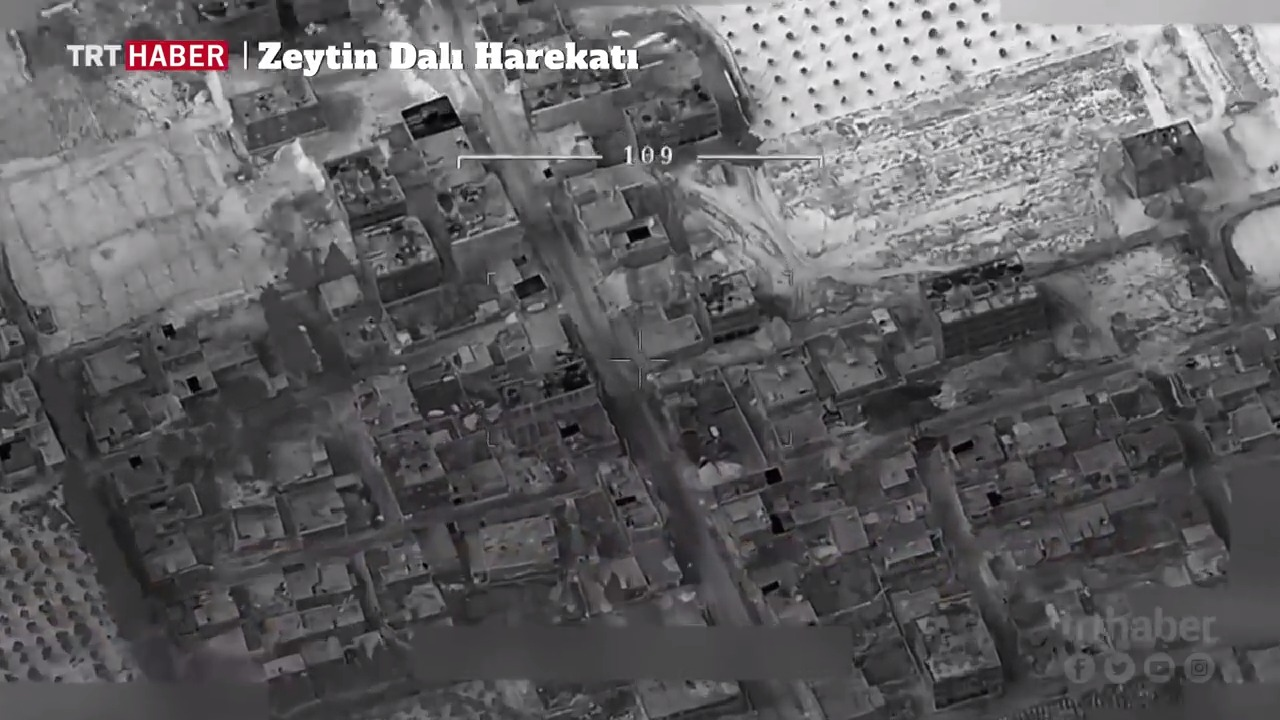bina: (913, 245, 1060, 374), (321, 135, 425, 230)
